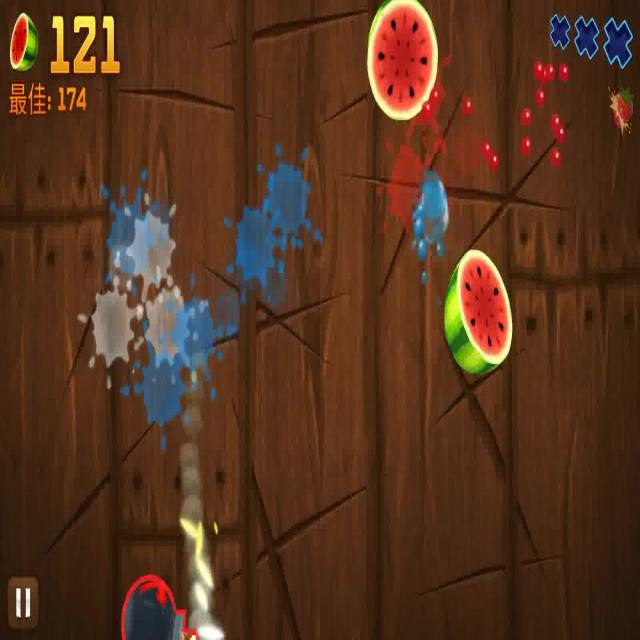bomb: (115, 567, 228, 640)
fruit: (441, 242, 516, 380), (364, 1, 445, 120)
